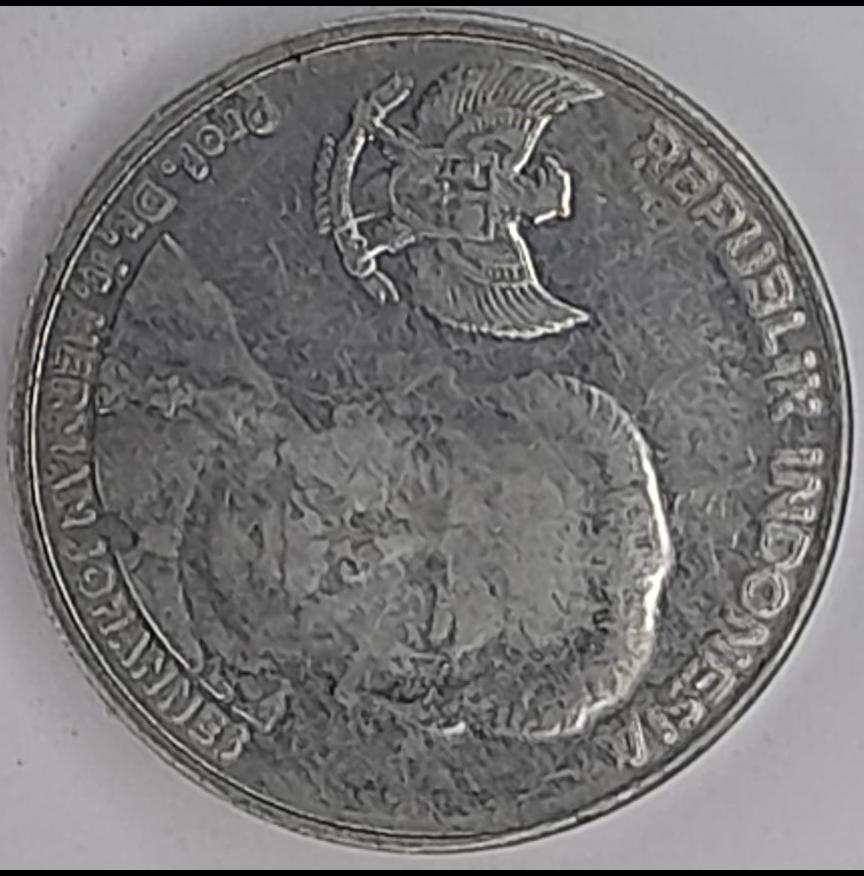coin_100_e2016: (2, 7, 858, 855)
